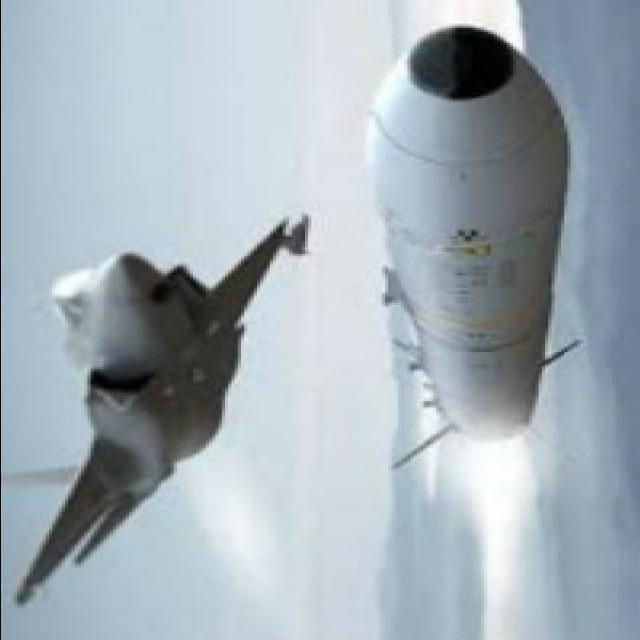missile: (365, 24, 571, 470)
